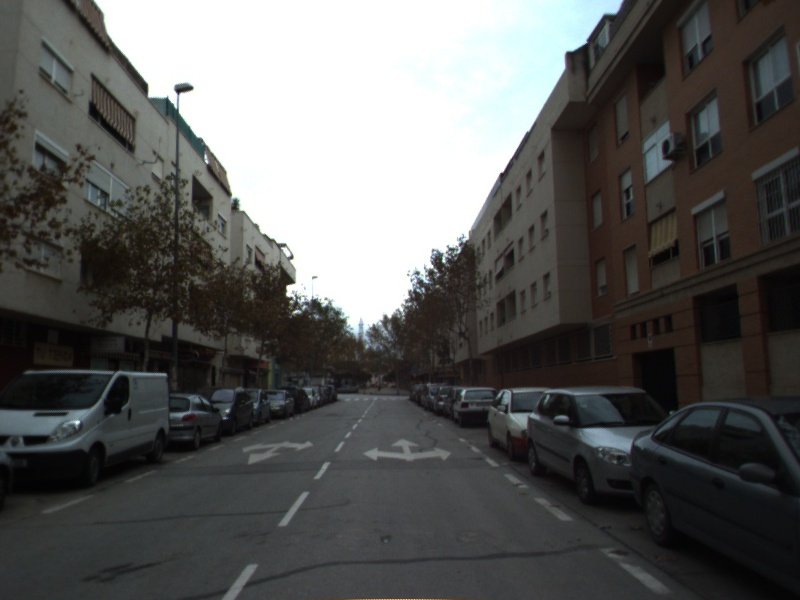STRAIGHT_LEFT_RIGHT: (360, 436, 454, 464)
